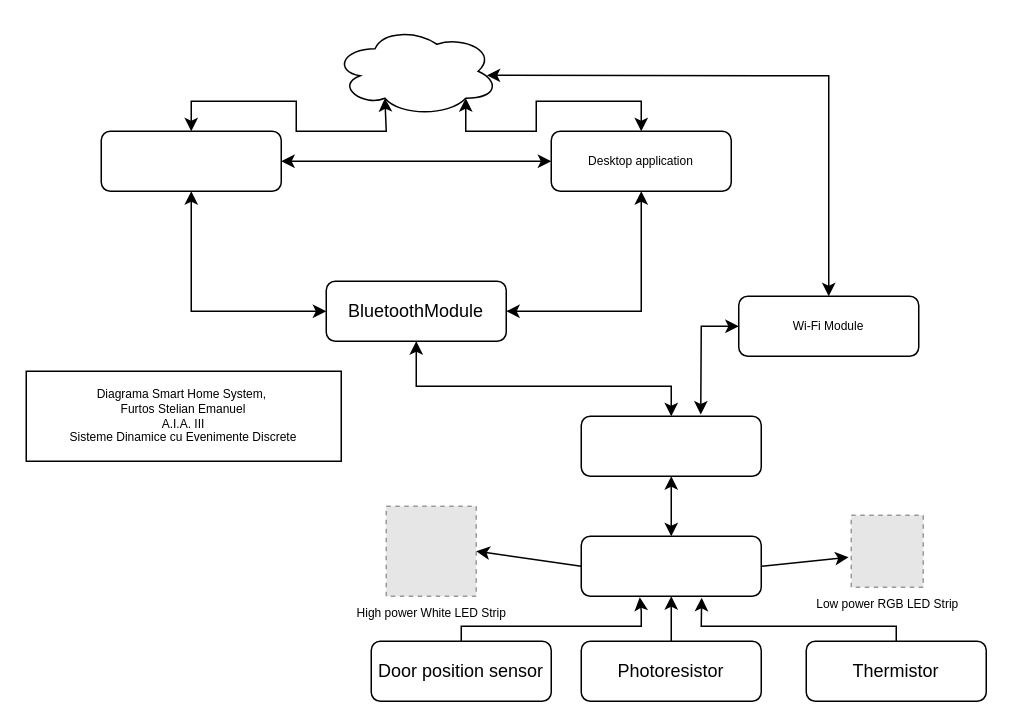
Some shapes in this 1013 by 728 pixel diagram are drawn without their labels. Grey dashed boxes stand in for pictures. The centre of each missing label's shape, as x and y in pixels:
"Android mobile application" goes at point (190, 160).
"Arduino" goes at point (670, 565).
"Serial Port" goes at point (670, 445).
"Web application" goes at point (415, 70).
